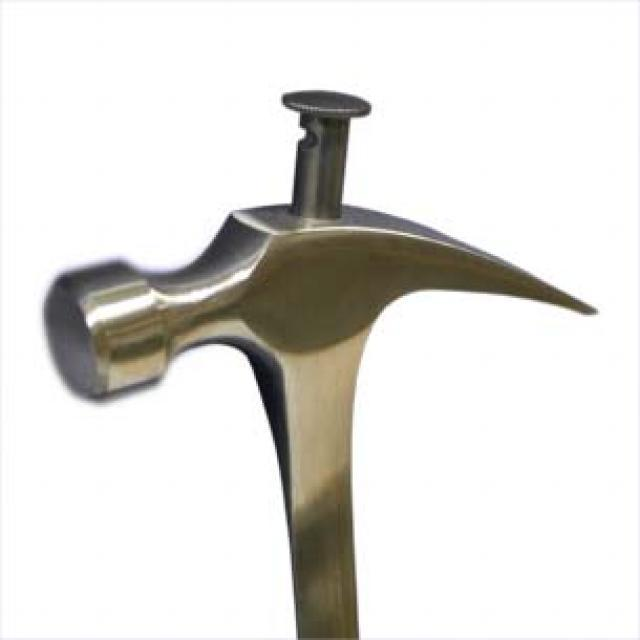hammer: (28, 191, 606, 640)
